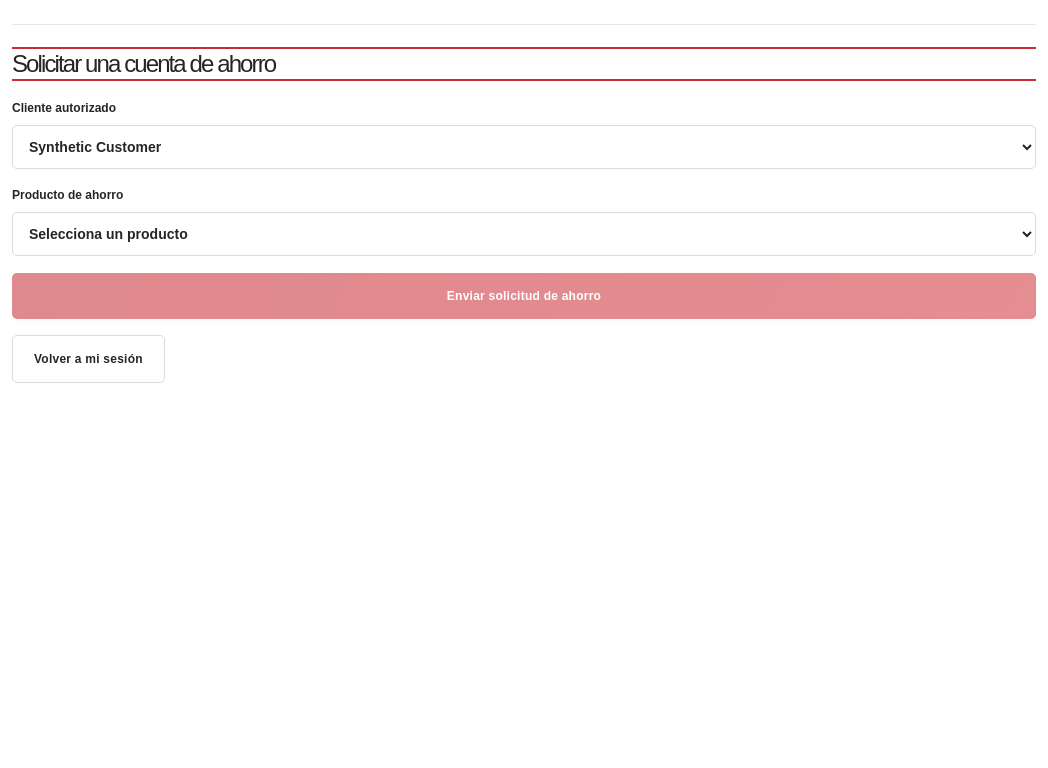
renders defaults, requires date and review, then focuses the actual confirmation
Select "Synthetic Flexible Savings" in the dropdown labelled "Producto de ahorro" at (524, 234), box [12,212,1036,256]
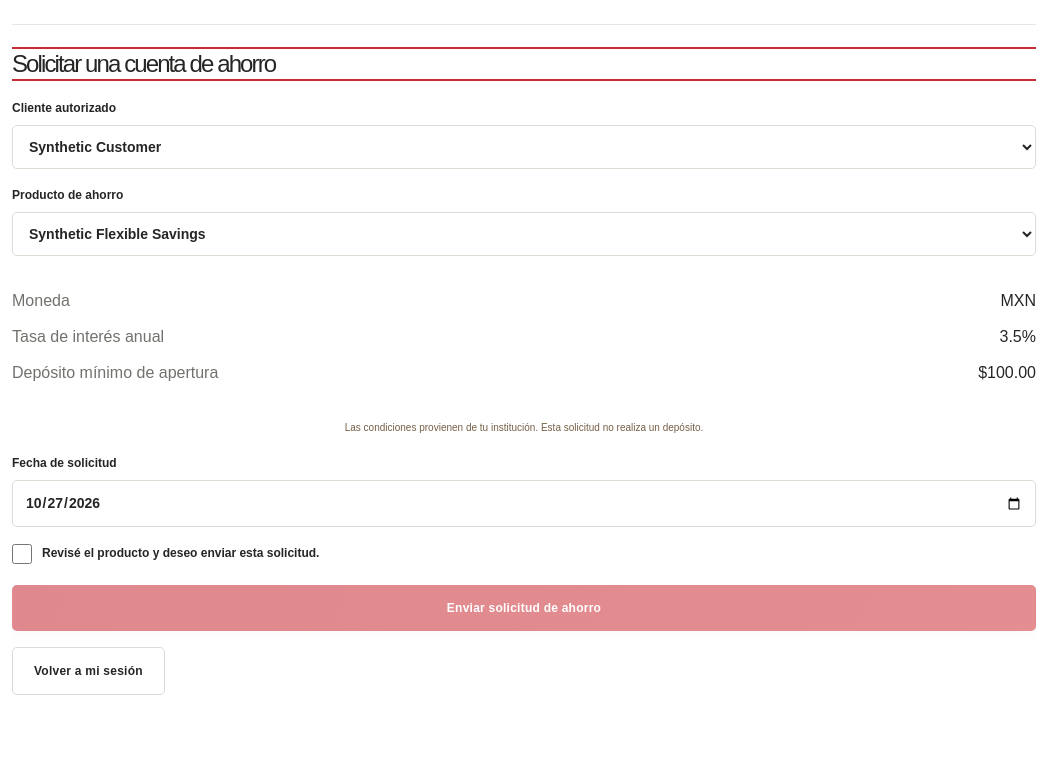
Expected: the button "Enviar solicitud de ahorro" is disabled, [12,585,1036,631]
Result: the date field labelled "Fecha de solicitud" holds "2026-10-27" at [12,480,1036,527]
Click the checkbox labelled "Revisé el producto y deseo enviar esta solicitud." at (22, 554), box [12,544,32,564]
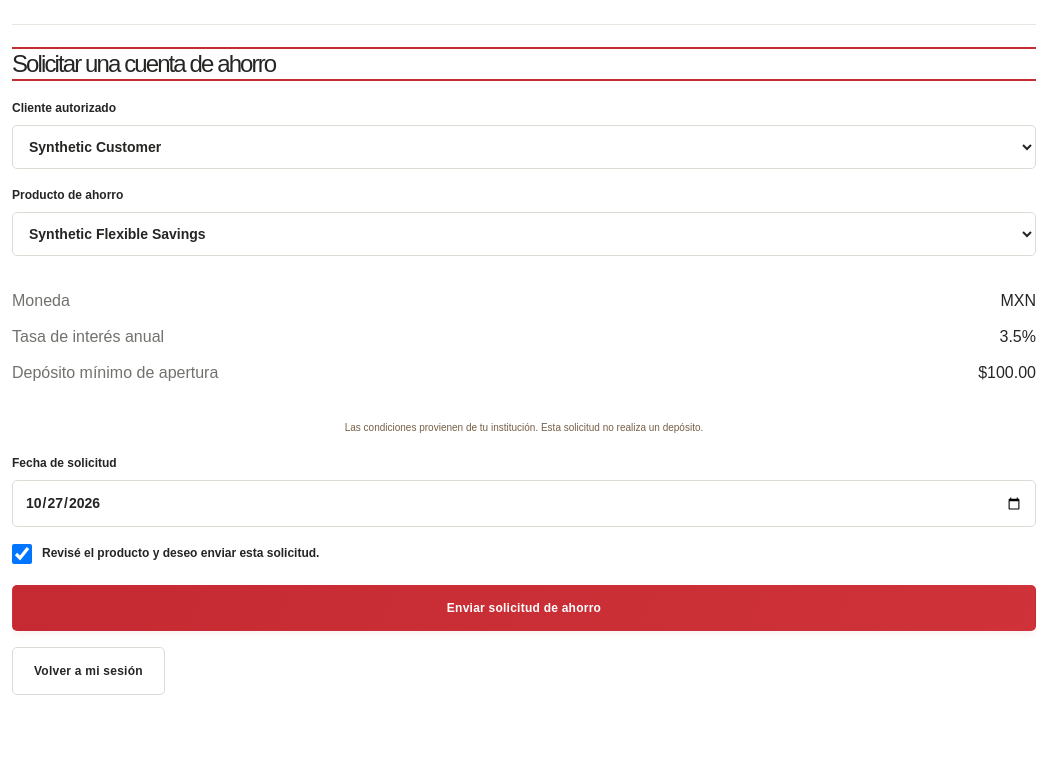
Submit the form named "Fecha de solicitud"
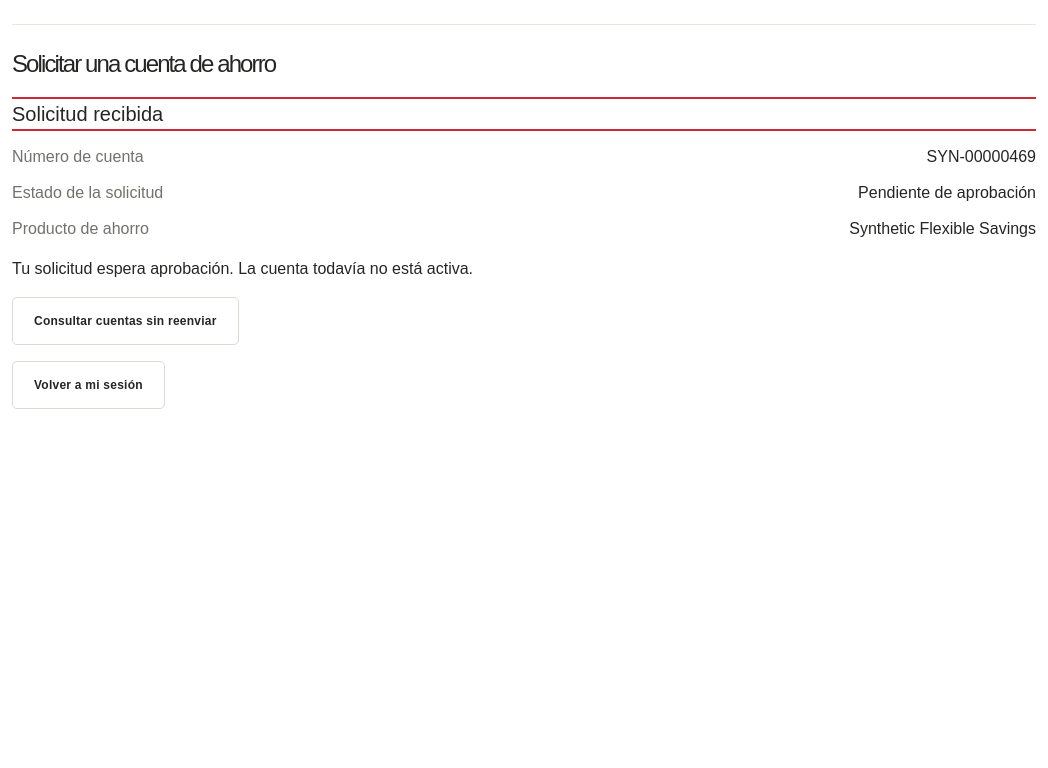
Result: the heading "Solicitud recibida" is shown at [12,103,163,125]
Result: the text "SYN-00000469" is shown at [927,145,1036,169]
Result: the text "Pendiente de aprobación" is shown at [858,181,1036,205]
